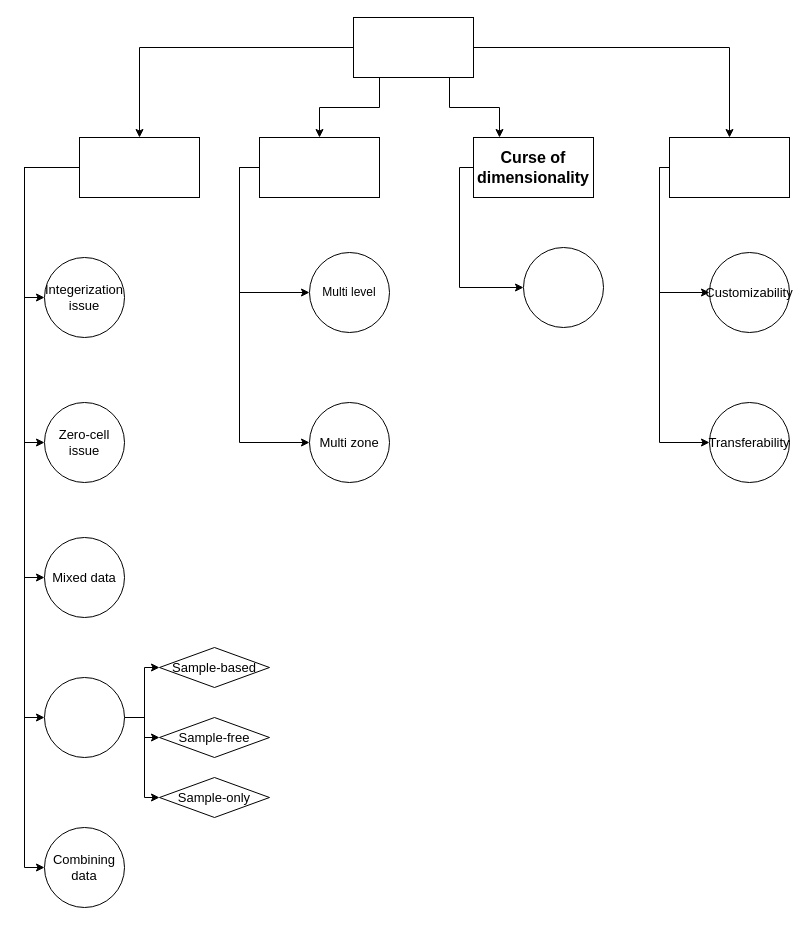
Some shapes in this 810 by 925 pixel diagram are drawn without their labels. The centre of each missing label's shape, as x and y in pixels:
"Adaptability" goes at [729,167].
"Data flexibility" goes at [84,717].
"Heterogeneity" goes at [319,167].
"Limited and mixed data" goes at [139,167].
"Limited time" goes at [563,287].
"Population Synthesis" goes at [413,47].
